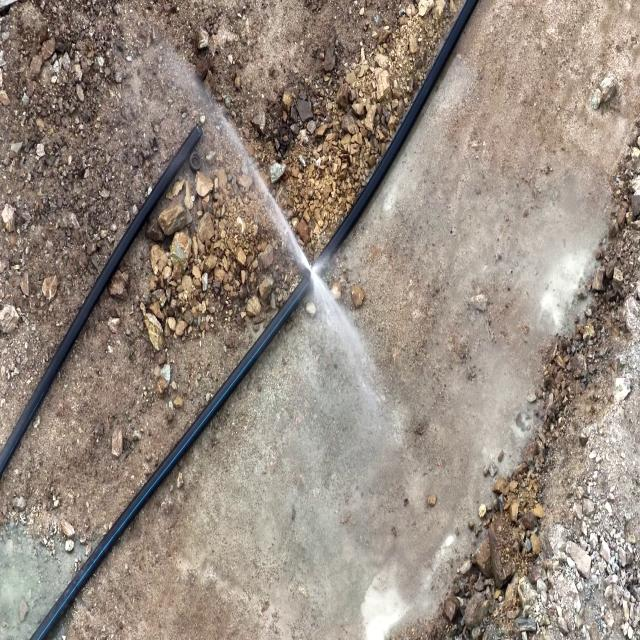leak: (193, 81, 366, 377)
